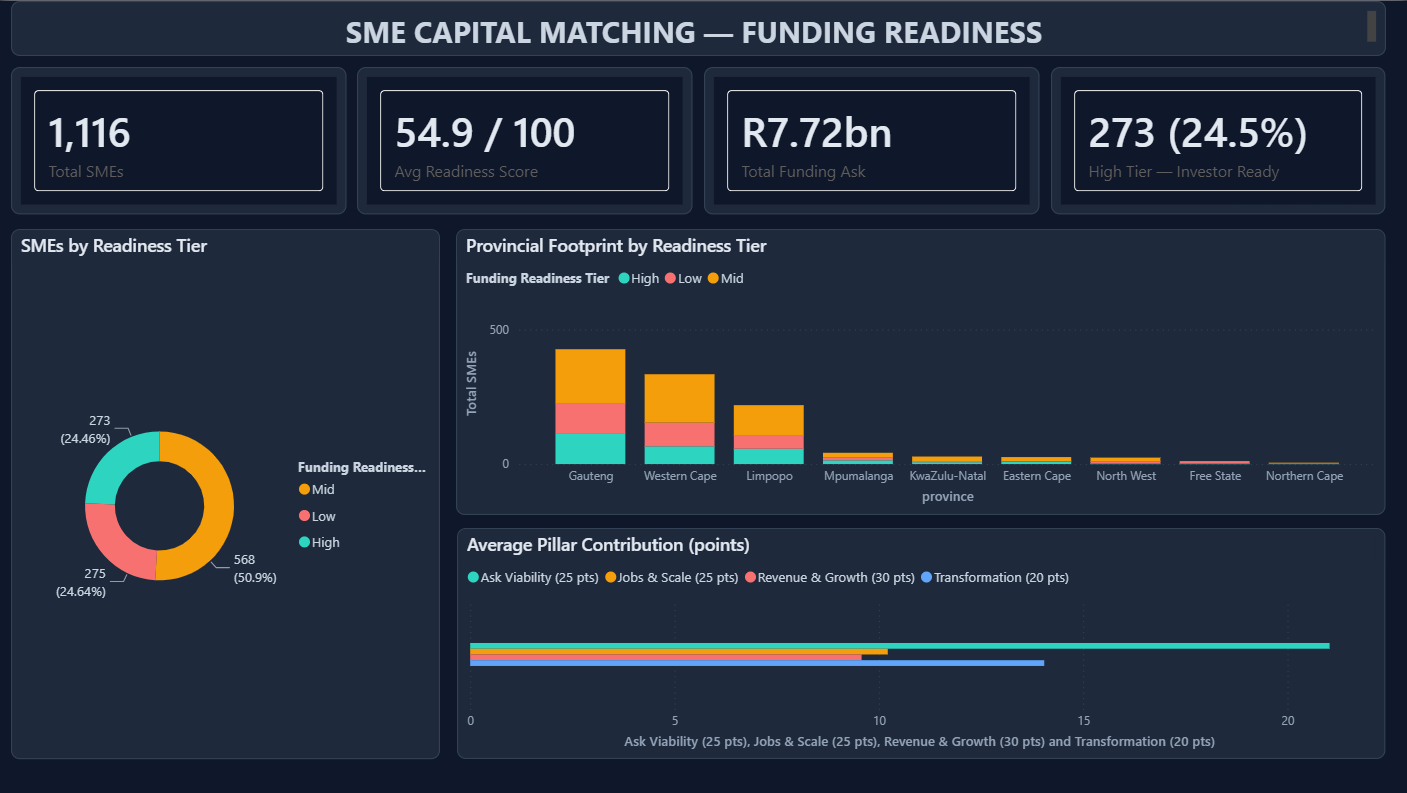

What the dashboard file says about the page in this screenshot:
{"tool":"powerbi","page":{"name":"Executive Summary","canvas":[1280,720],"ordinal":0},"visuals":[{"type":"textbox","box":[9.7,0,1249.8,49.6],"z":0},{"type":"cardVisual","fields":{"Data":["Clean Data.KPI Total SMEs"]},"box":[9.7,60.3,305.4,134.2],"z":1000},{"type":"cardVisual","fields":{"Data":["Clean Data.KPI Avg Score"]},"box":[324.9,60.3,305.4,134.2],"z":2000},{"type":"cardVisual","fields":{"Data":["Clean Data.KPI Total Ask"]},"box":[640,60.3,305.4,134.2],"z":3000},{"type":"cardVisual","fields":{"Data":["Clean Data.KPI High Tier"]},"box":[955.1,60.3,304.4,134.2],"z":4000},{"type":"donutChart","title":"SMEs by Readiness Tier","fields":{"Category":["Funding Readiness.readiness_tier"],"Y":["Funding Readiness.Total SMEs"]},"box":[9.7,207.2,390,482.4],"z":5000},{"type":"columnChart","title":"Provincial Footprint by Readiness Tier","fields":{"Category":["Funding Readiness.province"],"Y":["Funding Readiness.Total SMEs"],"Series":["Funding Readiness.readiness_tier"]},"box":[414.3,207.2,845.2,259.7],"z":6000},{"type":"clusteredBarChart","title":"Average Pillar Contribution (points)","fields":{"Y":["Avg(Funding Readiness.pts_ask_viability)","Avg(Funding Readiness.pts_jobs_scale)","Avg(Funding Readiness.pts_revenue_growth)","Avg(Funding Readiness.pts_transformation)"]},"box":[415.3,479.5,844.3,210.1],"z":7000}]}

Visuals, with their boxes in screenshot pixels (x1, y1, x2, y2), scaled from the page's 1280x720 canvas onto the 1407x793 screenshot:
textbox: 11,0,1384,55
cardVisual - Clean Data.KPI Total SMEs: 11,66,346,214
cardVisual - Clean Data.KPI Avg Score: 357,66,693,214
cardVisual - Clean Data.KPI Total Ask: 704,66,1039,214
cardVisual - Clean Data.KPI High Tier: 1050,66,1384,214
"SMEs by Readiness Tier" donutChart: 11,228,439,760
"Provincial Footprint by Readiness Tier" columnChart: 455,228,1384,514
"Average Pillar Contribution (points)" clusteredBarChart: 457,528,1385,760
